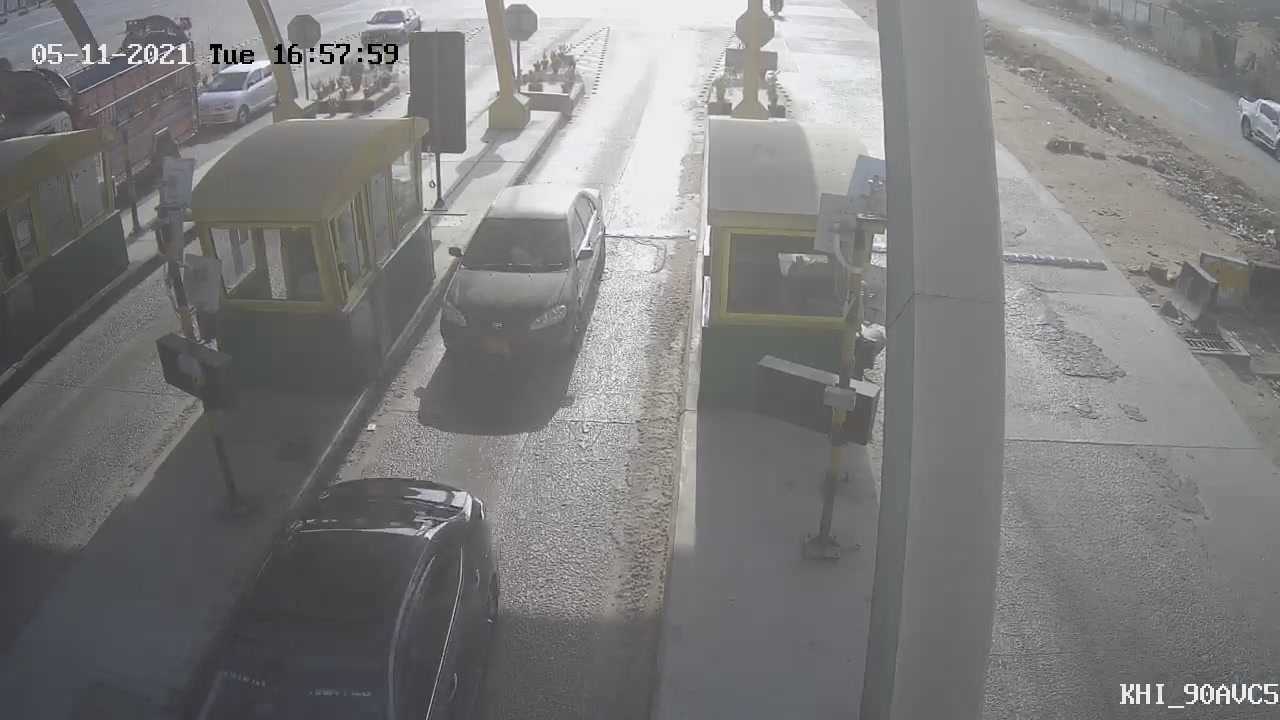F1: (422, 168, 626, 394)
